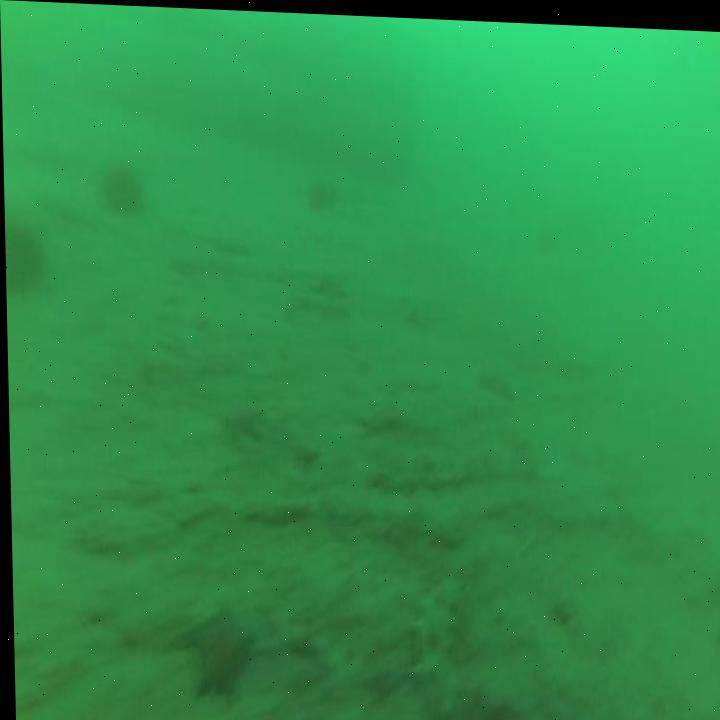echinus: (4, 215, 53, 300), (101, 156, 148, 224)
holothurian: (401, 552, 471, 720)
starfish: (184, 584, 259, 706)
